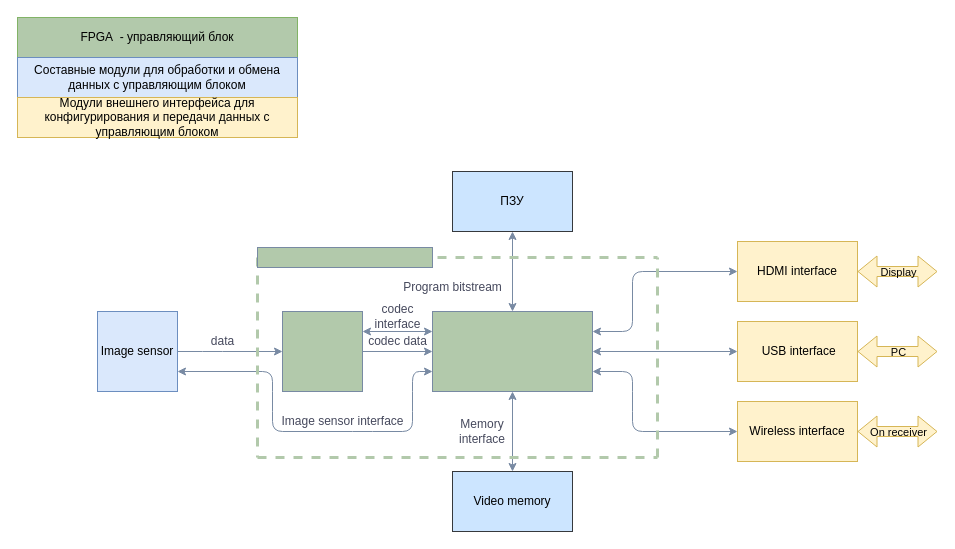
The diagram is 955 pixels wide and 549 high, and some of its shapes have lost their labels. The shapes that lost their labels are listed below. From the top down, each one's centre as x and y in pixels, then its label:
At point 344,257: "Can be implemented on FPGA".
At point 322,351: "Video codec".
At point 512,351: "FPGA".
